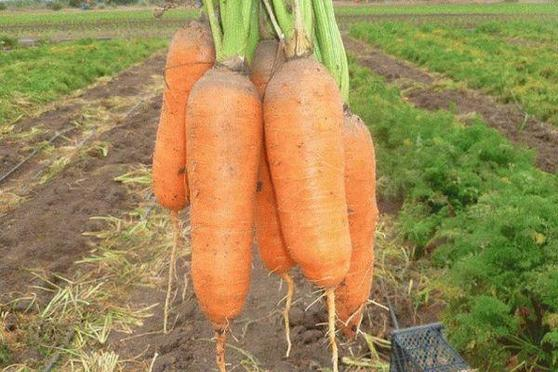carrot: (265, 49, 359, 292), (185, 67, 267, 319)
